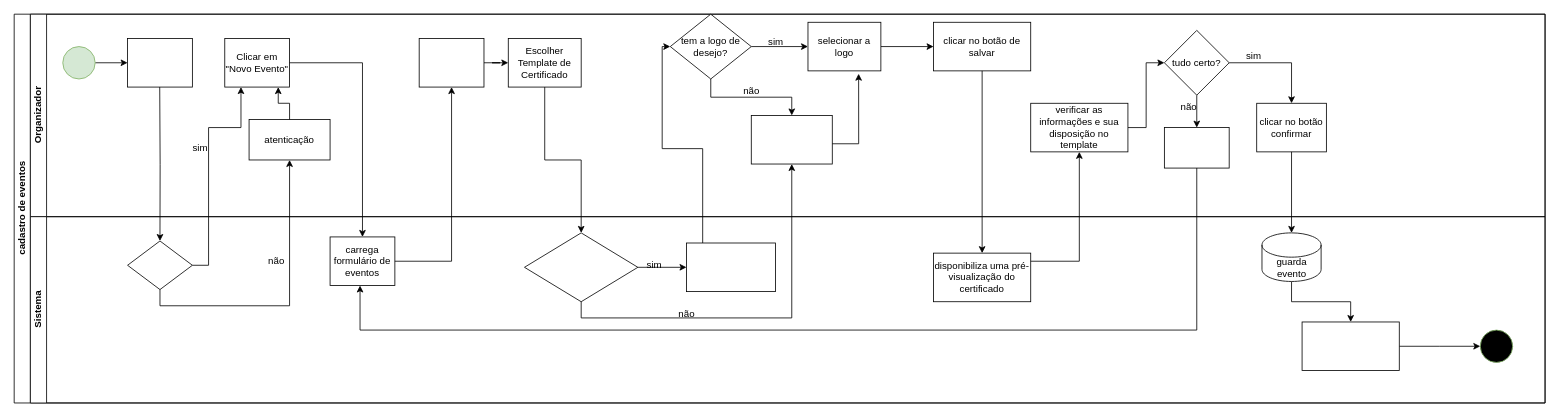
This 1559x417 diagram has some shape labels left out. The centre of each missing label's shape, as x and y in pixels:
Acessar Módulo de Eventos: pixel 159 62
alguma logo atribuida ao organizador?: pixel 581 267
autenticado?: pixel 159 265
carrega pagina de listagem de eventos: pixel 1350 346
carregar logo: pixel 791 139
clicar no botão editar: pixel 1196 147
disponibiliza uma listagem das logos salvas: pixel 731 267
Preencher Informações do Evento: pixel 451 62
